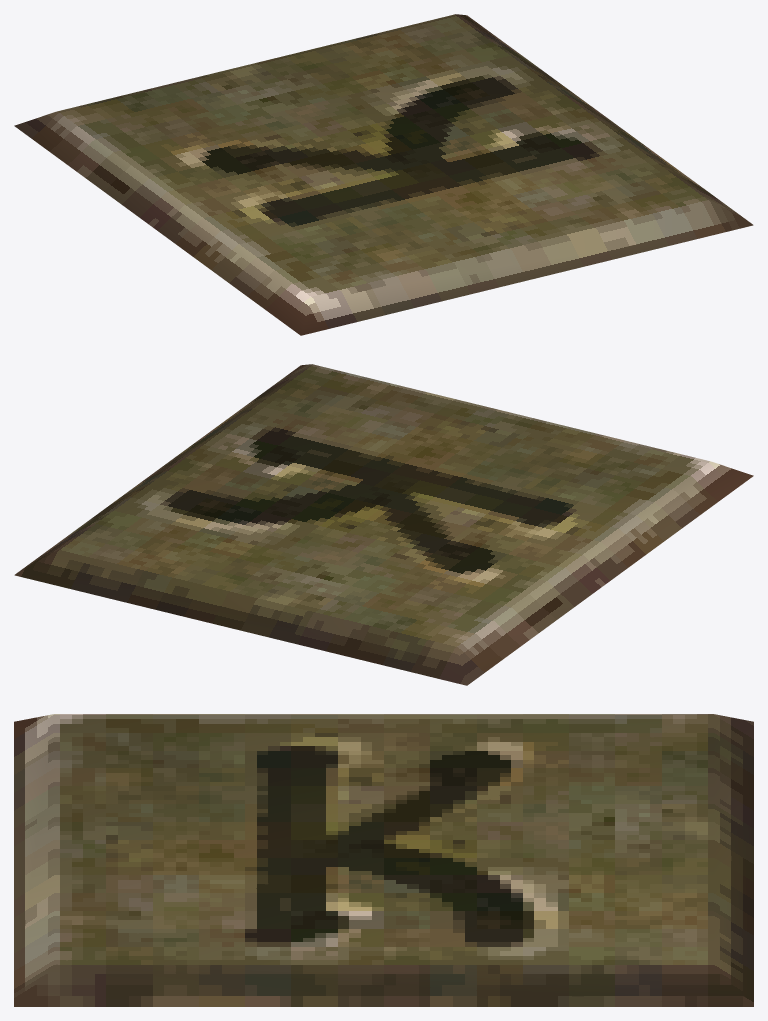
The model's file is EREBOR_RUNE_PZL_EREBOR_PZL_TILE_STATIC57.fbx.
The picture shows the model from 3 angles, top to bottom: view 1: azimuth 30°, elevation 25°; view 2: azimuth 150°, elevation 25°; view 3: azimuth 270°, elevation 25°; orthographic projection. The views are drawn at different scales.
Visible parts, largest first — view 1: EREBOR_RUNE_PZL_EREBOR_PZL_TILE_STATIC57; view 2: EREBOR_RUNE_PZL_EREBOR_PZL_TILE_STATIC57; view 3: EREBOR_RUNE_PZL_EREBOR_PZL_TILE_STATIC57.
Boxes of the visible parts, bbox=[...] form: EREBOR_RUNE_PZL_EREBOR_PZL_TILE_STATIC57: bbox=[14, 14, 753, 335]; EREBOR_RUNE_PZL_EREBOR_PZL_TILE_STATIC57: bbox=[14, 364, 753, 685]; EREBOR_RUNE_PZL_EREBOR_PZL_TILE_STATIC57: bbox=[14, 714, 753, 1006].
Bounding box in the file's own units: 9203 × 370 × 10093.
Materials: 1 (1 with a texture image).
